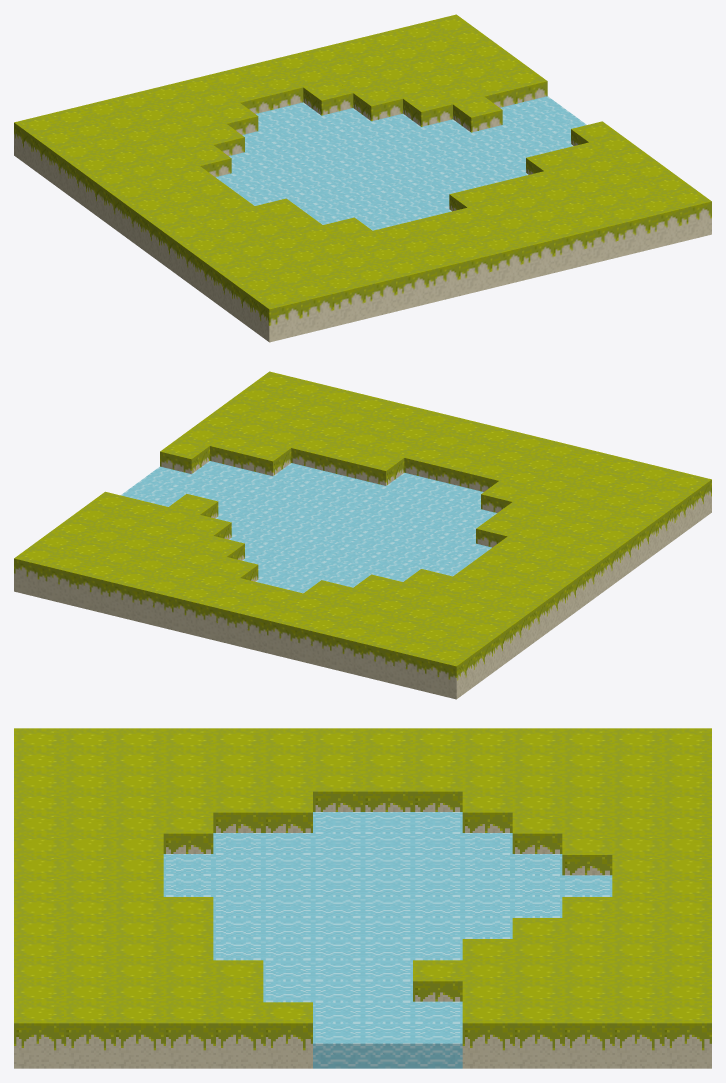
The picture shows the model from 3 angles, top to bottom: view 1: azimuth 30°, elevation 25°; view 2: azimuth 150°, elevation 25°; view 3: azimuth 270°, elevation 25°; orthographic projection. The views are drawn at different scales.
Visible parts, largest first — view 1: Ground_Grass_D__2__1__42__1; view 2: Ground_Grass_D__2__1__42__1; view 3: Ground_Grass_D__2__1__42__1.
Part boxes in pixels (bbox=[...]): Ground_Grass_D__2__1__42__1: bbox=[14, 14, 711, 342]; Ground_Grass_D__2__1__42__1: bbox=[14, 371, 711, 699]; Ground_Grass_D__2__1__42__1: bbox=[14, 728, 711, 1068].
Size of the model in its own units: 8400 by 600 by 8400.
Materials: 2 (2 with a texture image).
